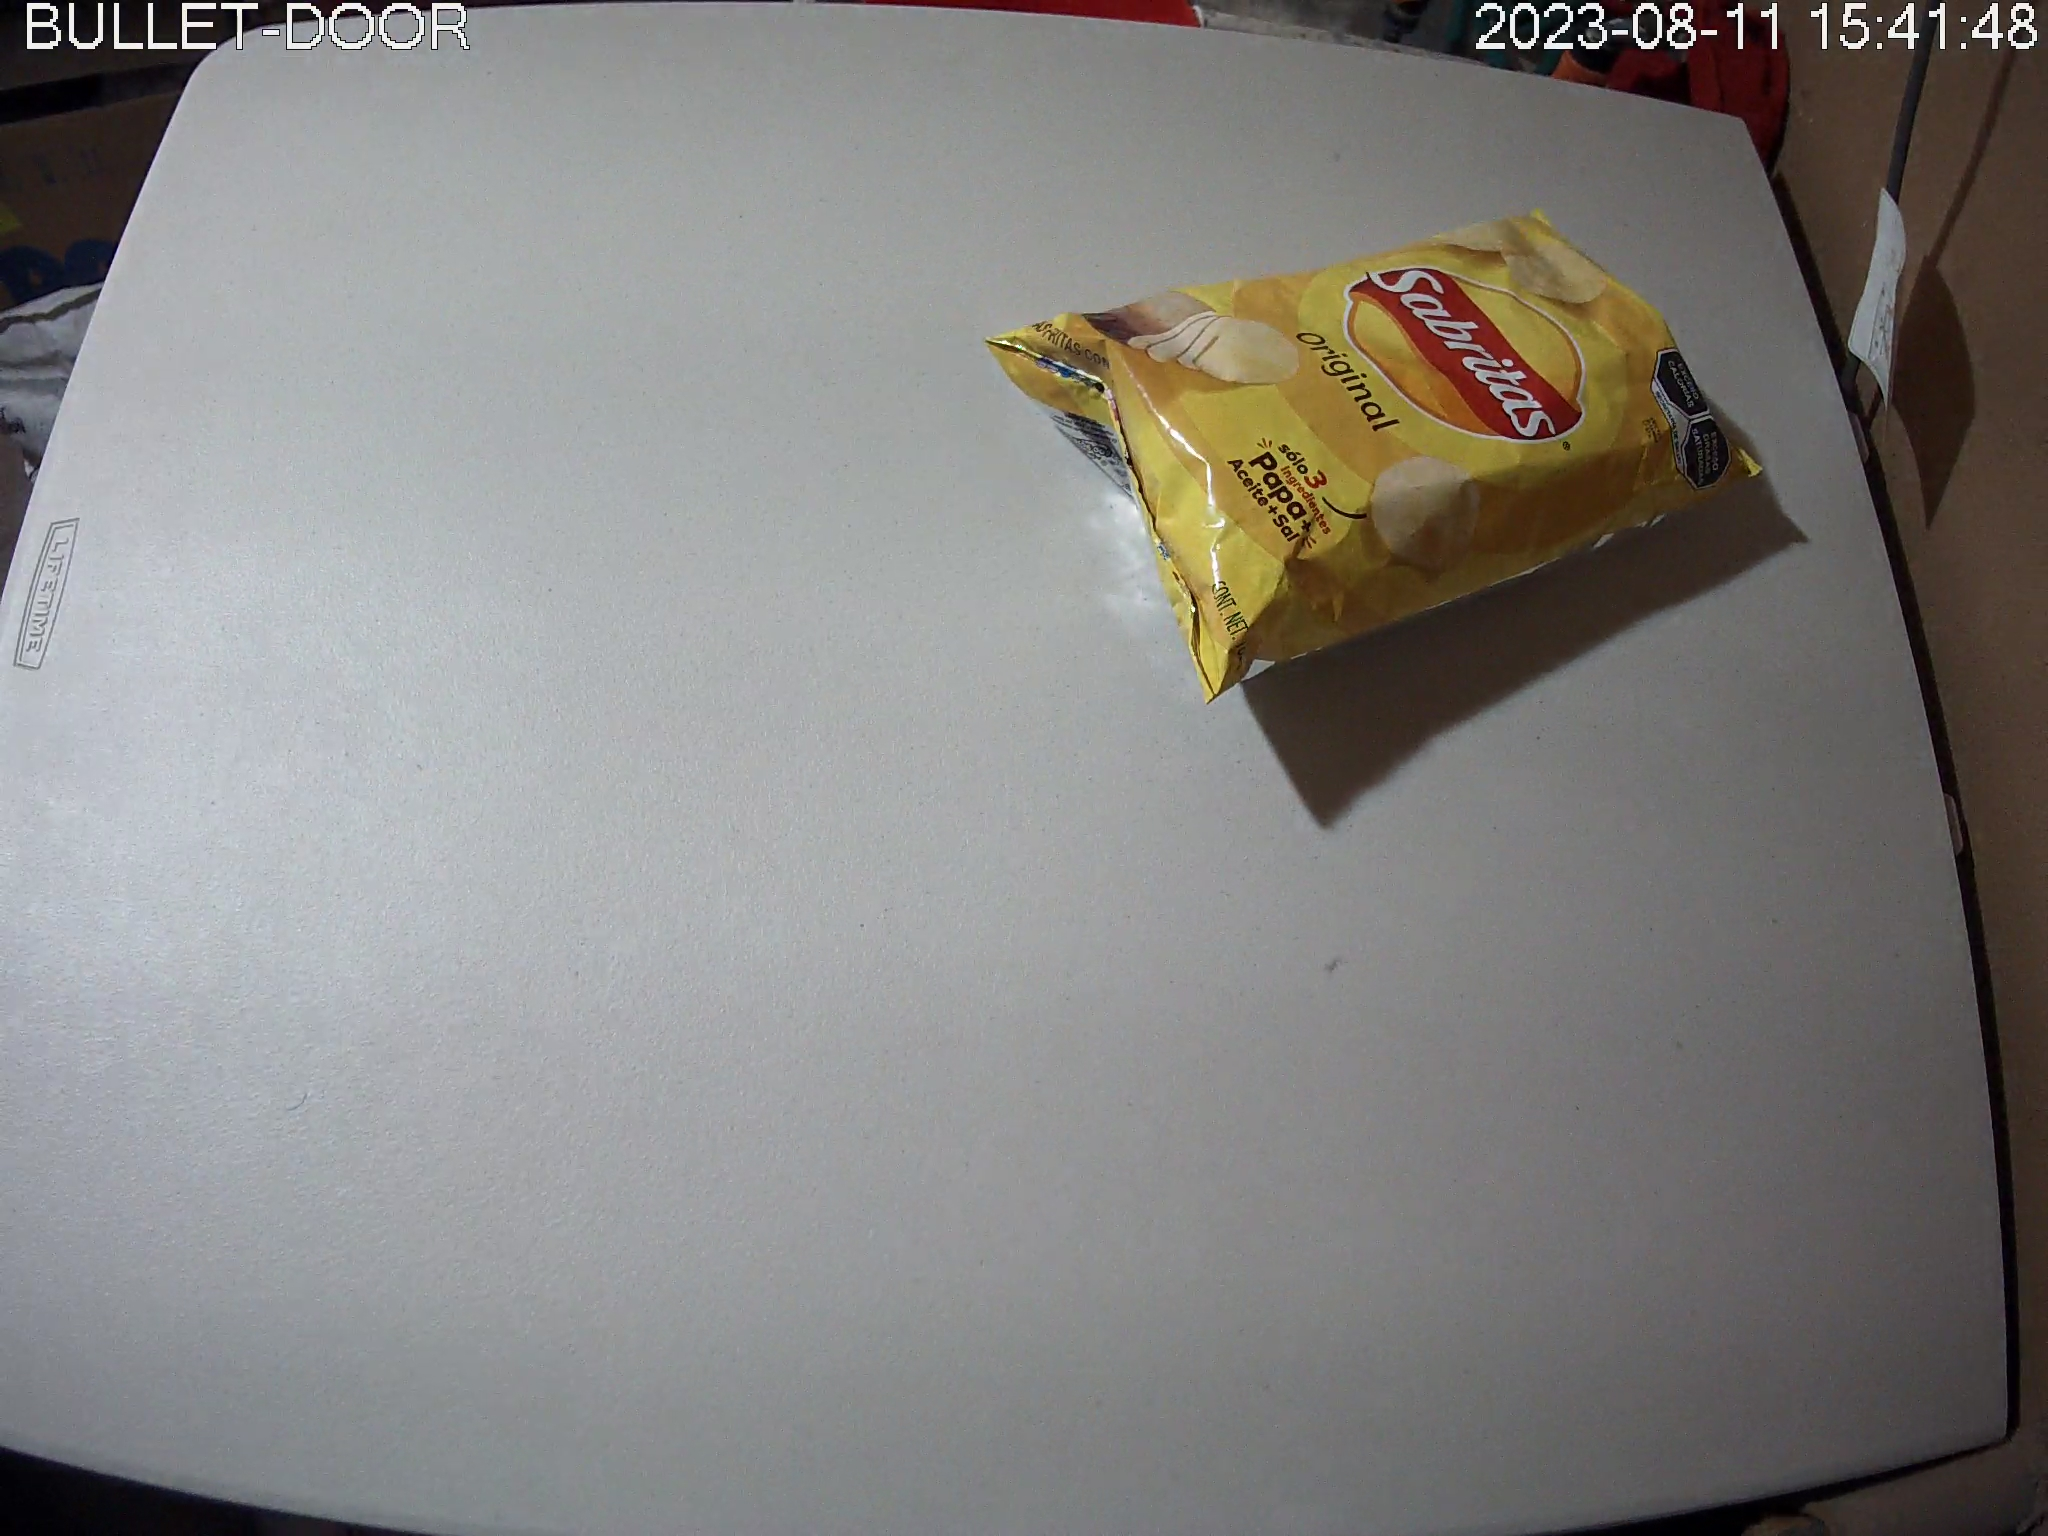Sabritas_160_F: (980, 207, 1767, 710)
